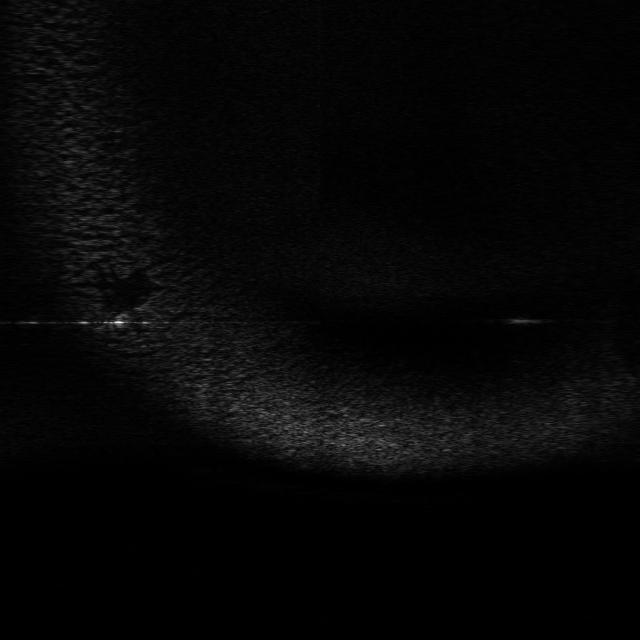plane: (92, 303, 158, 333)
